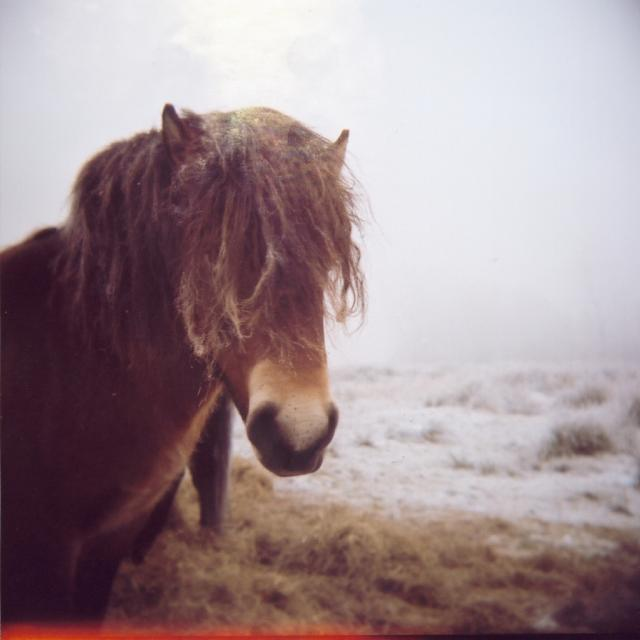Horse: (0, 107, 366, 636)
